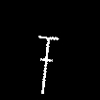double_crochet: (39, 36, 57, 93)
